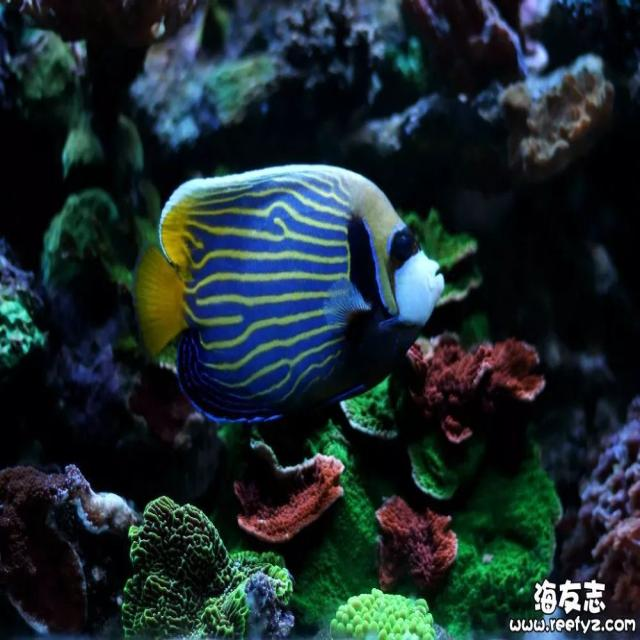AngelFish: (137, 164, 443, 438)
